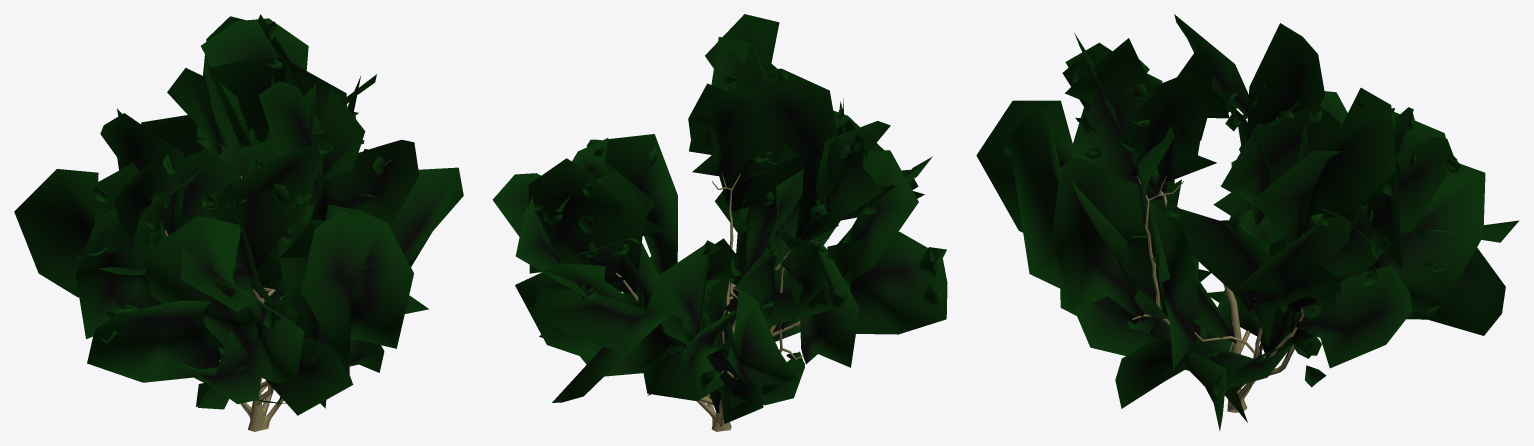
File: RoseBushBigRHEP_F.fbx
3 views of the same model, side by side, from view 1: azimuth 30°, elevation 25°; view 2: azimuth 150°, elevation 25°; view 3: azimuth 270°, elevation 25° (orthographic). The views are drawn at different scales.
Visible parts, largest first — view 1: RBBRHEPF-Leaves_LOD0, RBBRHEPF-Flowers_LOD0, RBBRHEPF-Branches_LOD0; view 2: RBBRHEPF-Leaves_LOD0, RBBRHEPF-Flowers_LOD0, RBBRHEPF-Branches_LOD0; view 3: RBBRHEPF-Leaves_LOD0, RBBRHEPF-Flowers_LOD0, RBBRHEPF-Branches_LOD0.
Boxes of the visible parts, <box> form: RBBRHEPF-Leaves_LOD0: <box>14,14,463,415</box>; RBBRHEPF-Flowers_LOD0: <box>77,21,391,388</box>; RBBRHEPF-Branches_LOD0: <box>165,230,283,431</box>; RBBRHEPF-Leaves_LOD0: <box>492,14,947,423</box>; RBBRHEPF-Flowers_LOD0: <box>523,70,946,391</box>; RBBRHEPF-Branches_LOD0: <box>612,173,803,431</box>; RBBRHEPF-Leaves_LOD0: <box>976,14,1519,431</box>; RBBRHEPF-Flowers_LOD0: <box>1002,63,1460,394</box>; RBBRHEPF-Branches_LOD0: <box>1131,176,1304,412</box>.
Size of what is drawn, in the model's own units: 2.73 by 2.54 by 3.23.
